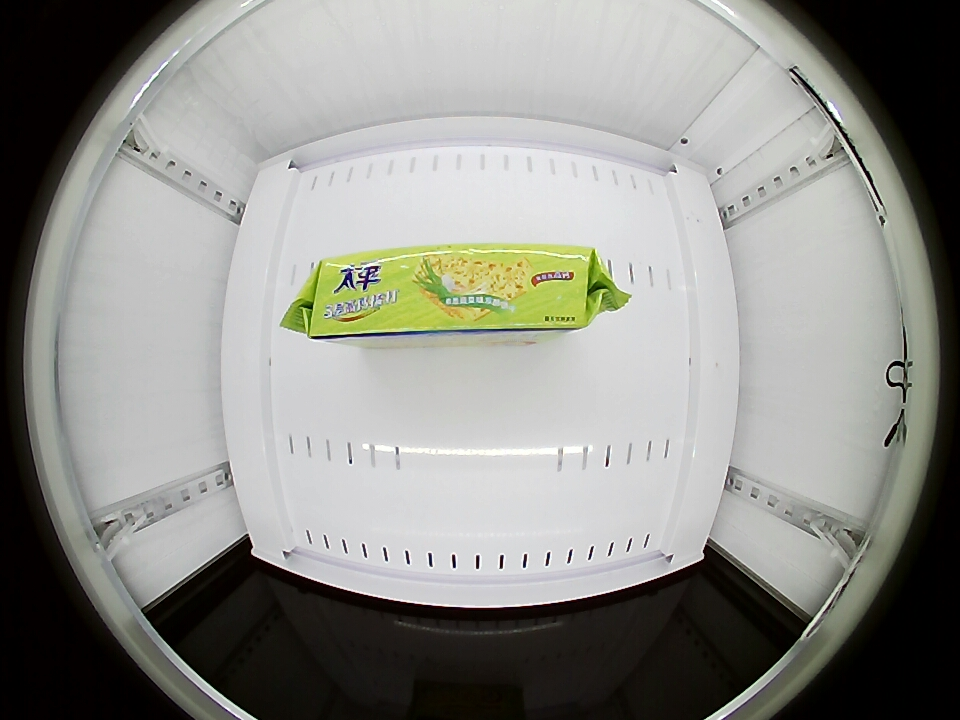taipingshuda: (304, 244, 597, 339)
